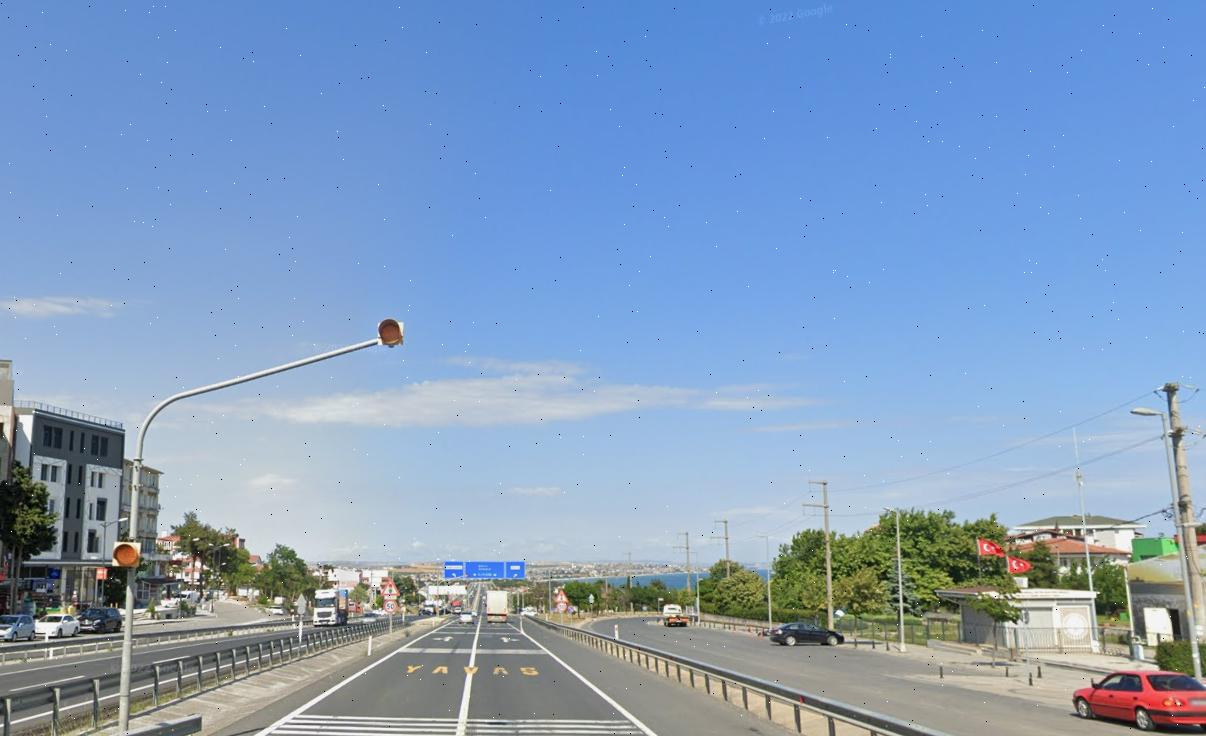yellowlight: (375, 317, 405, 353), (111, 541, 142, 575)
